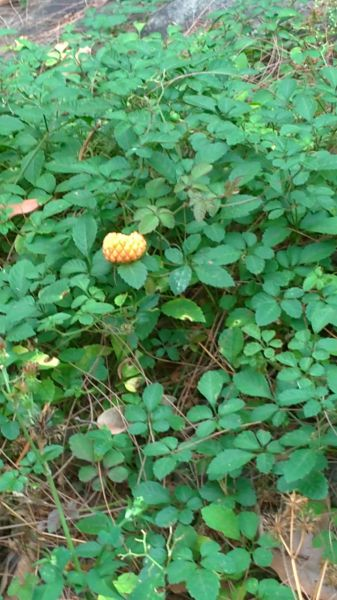eggs: (97, 227, 150, 267)
